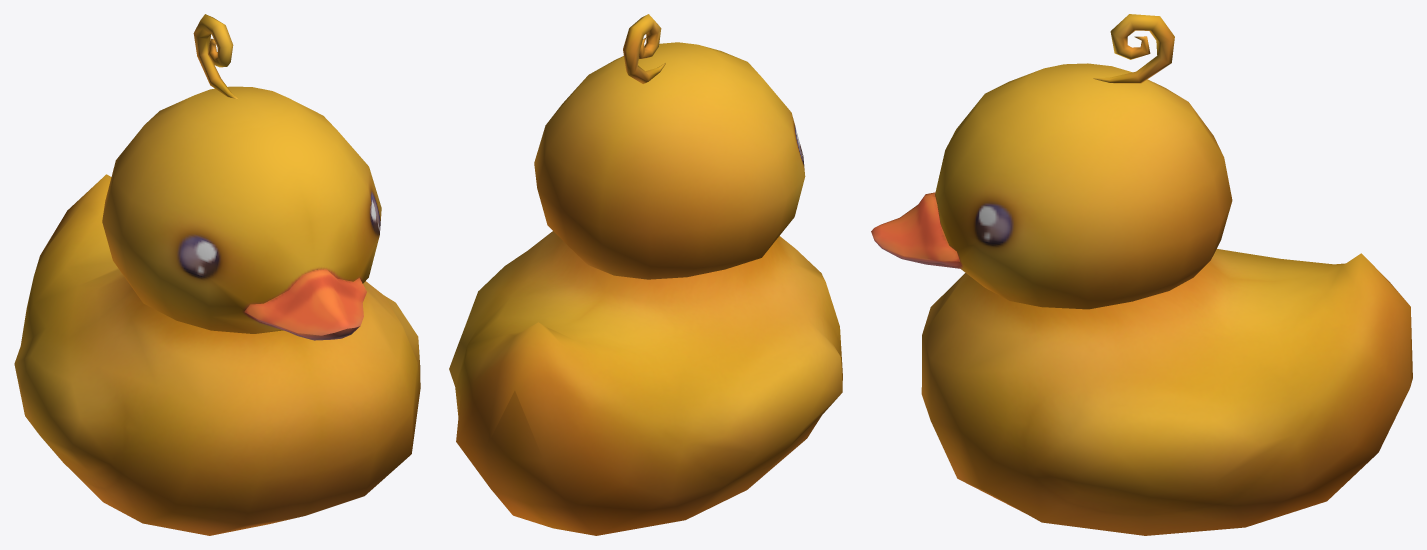
The model's file is scenes_common_bduck01.FBX.
3 renders of one model, left to right at view 1: azimuth 30°, elevation 25°; view 2: azimuth 150°, elevation 25°; view 3: azimuth 270°, elevation 25°, orthographic. The views are drawn at different scales.
Parts seen in each view (by area): view 1: scenes_common_bduck01; view 2: scenes_common_bduck01; view 3: scenes_common_bduck01.
Boxes of the visible parts, left/top/right/bottom form: scenes_common_bduck01: left=14, top=14, right=420, bottom=535; scenes_common_bduck01: left=449, top=14, right=842, bottom=535; scenes_common_bduck01: left=871, top=14, right=1412, bottom=535.
Bounding box in the file's own units: 173 × 223 × 225.
